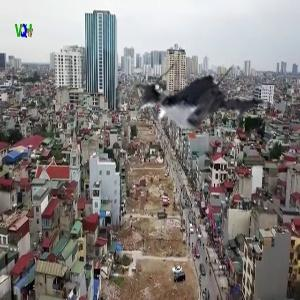drone: (128, 27, 273, 172)
